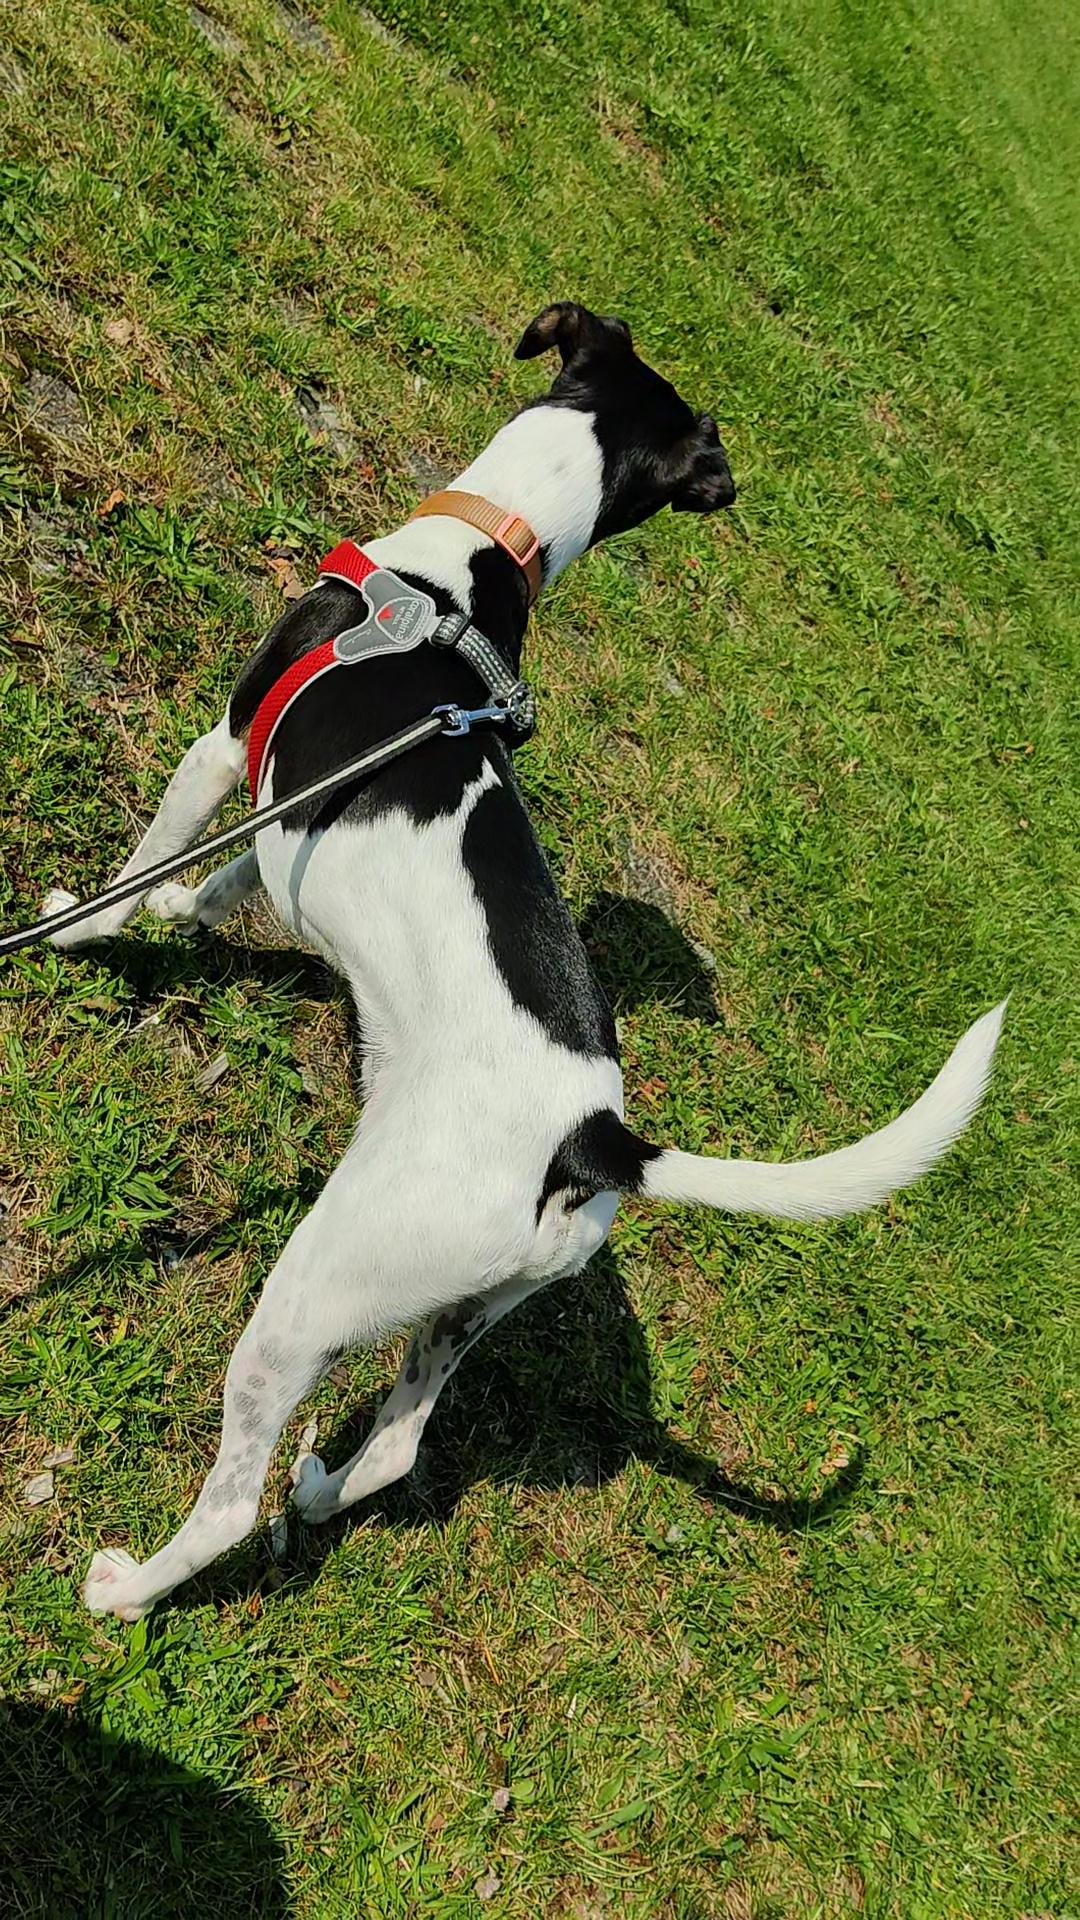Dog: (32, 287, 1025, 1633)
